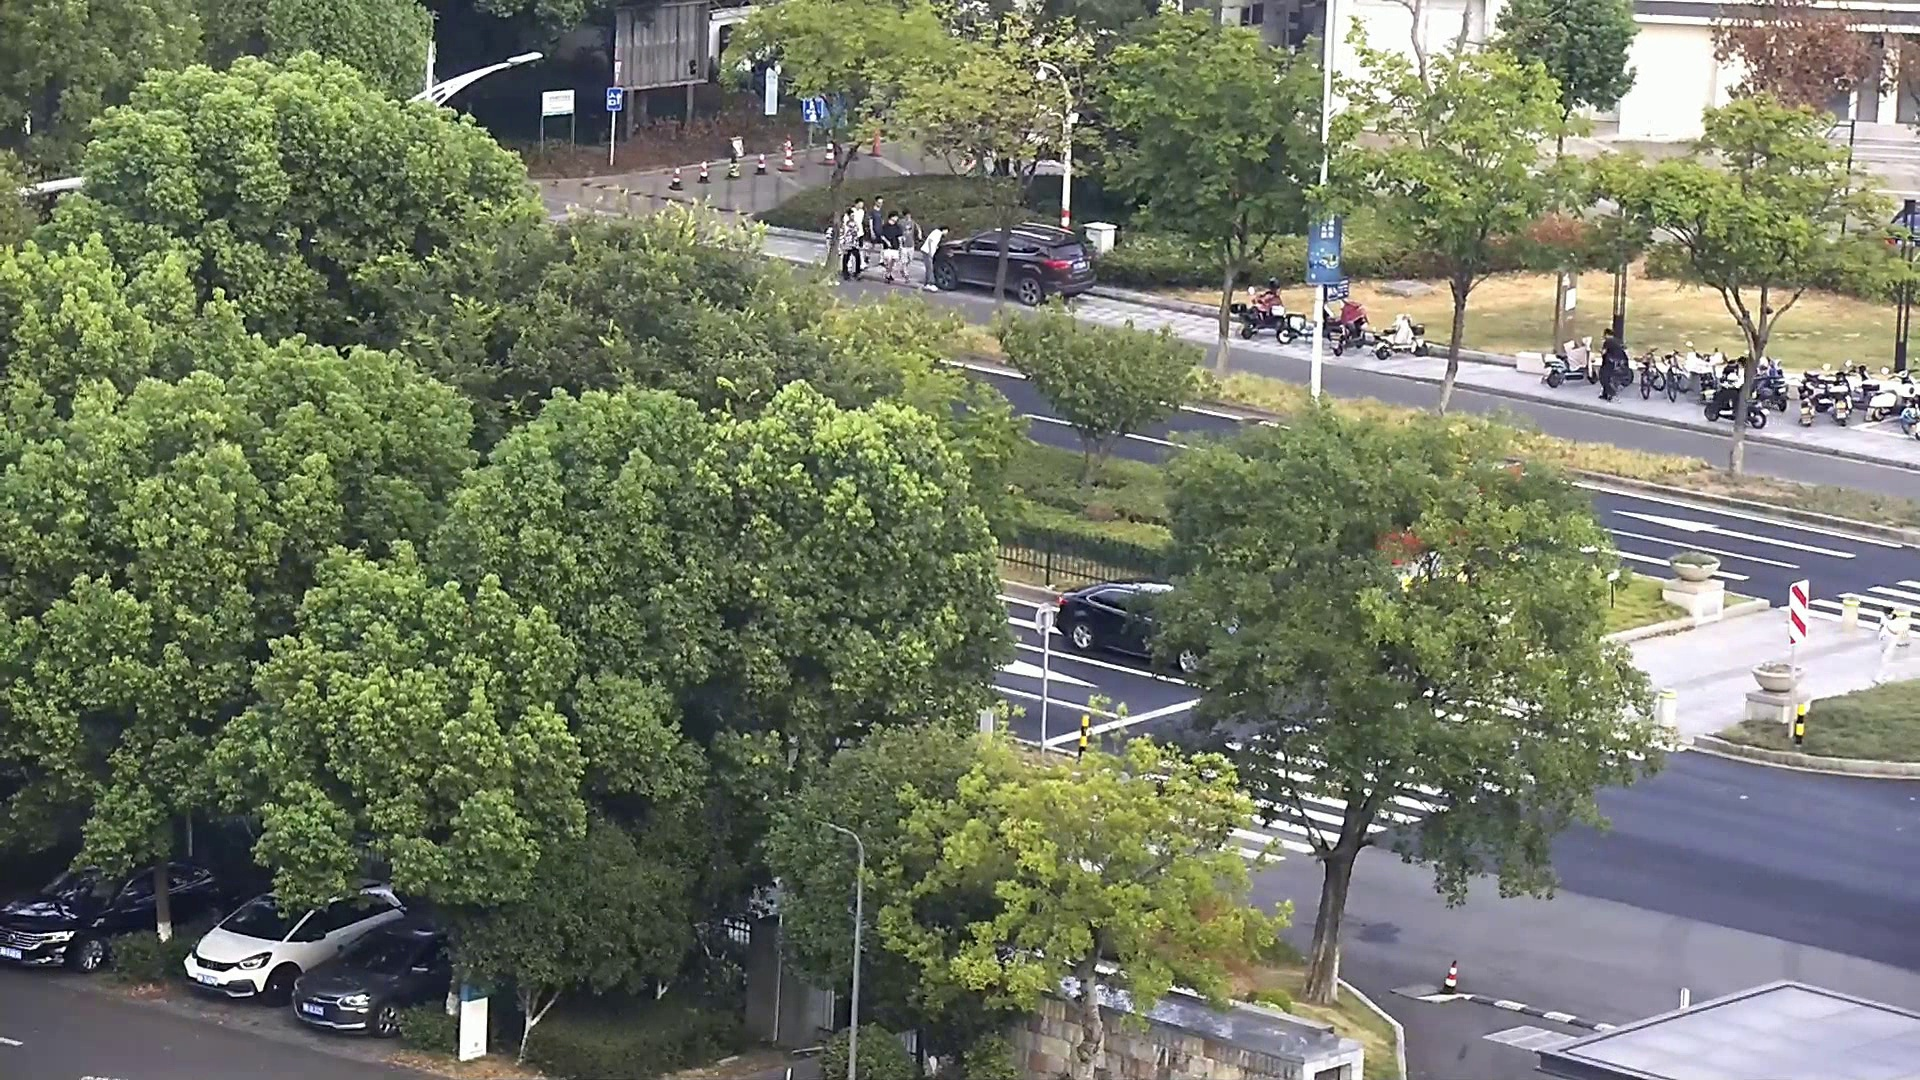person: (838, 197, 870, 279), (1597, 325, 1628, 400), (920, 222, 949, 288), (898, 207, 921, 276), (1255, 276, 1285, 319)
